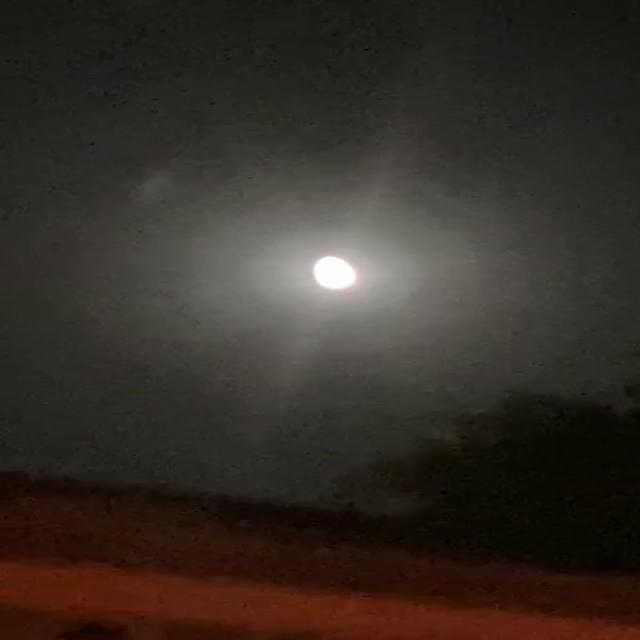moon: (286, 280, 344, 312)
